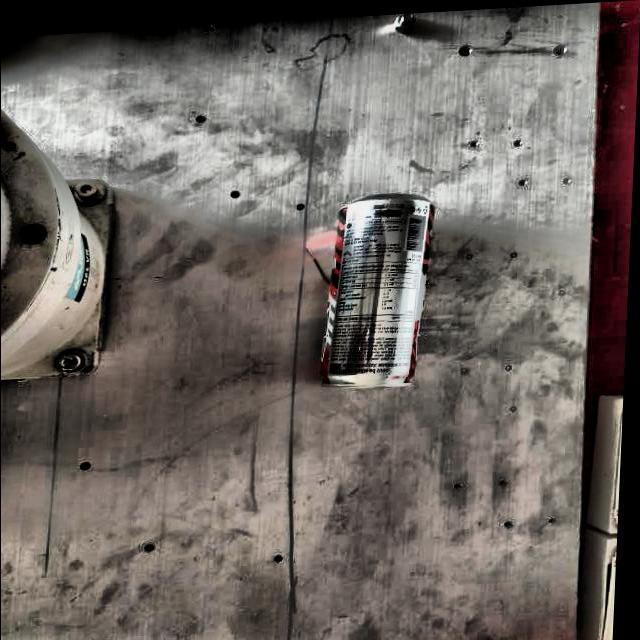litter: (314, 178, 457, 396)
